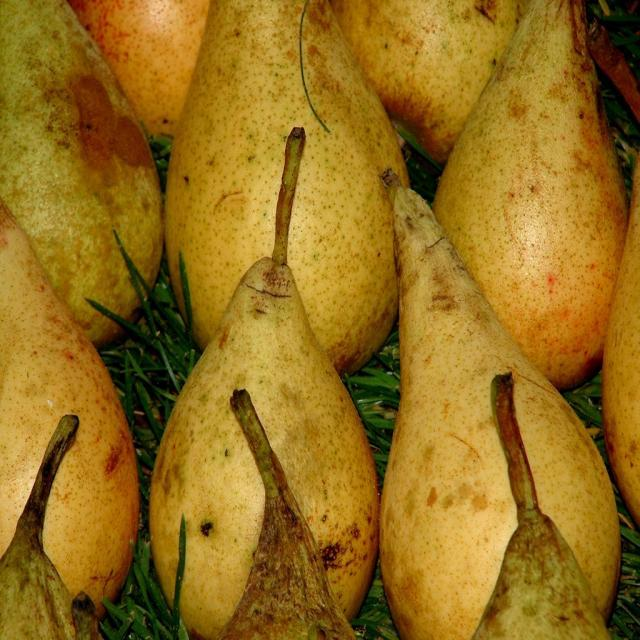Pear: (0, 2, 639, 639)
